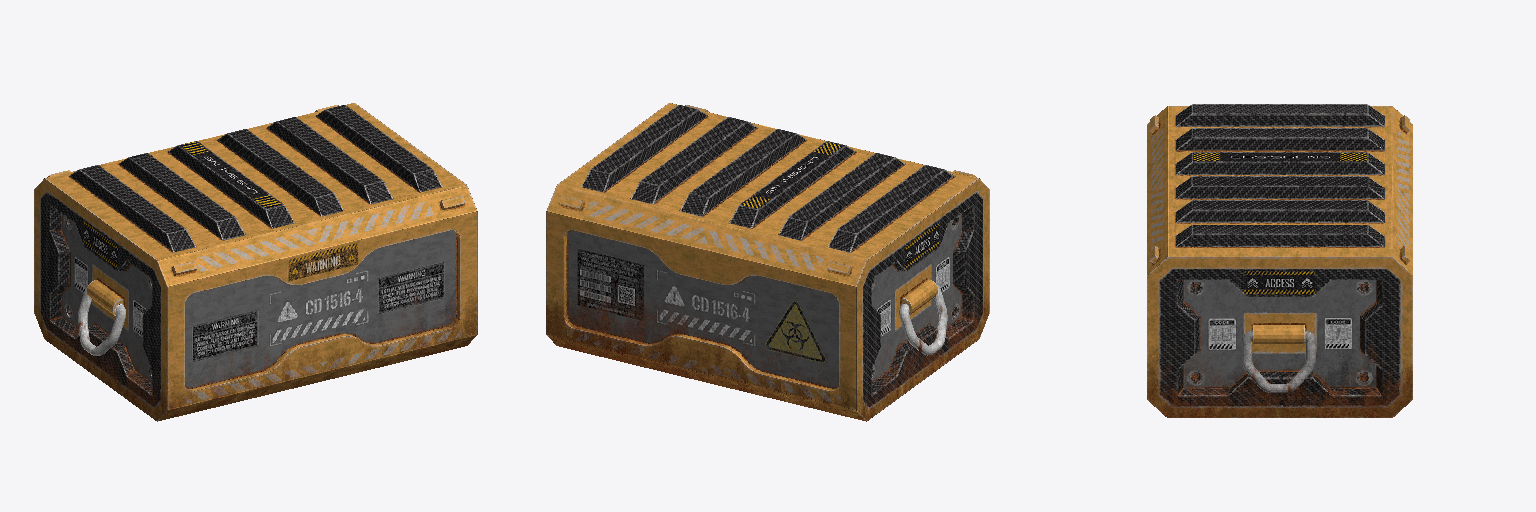
The picture shows the model from 3 angles: view 1: azimuth 30°, elevation 25°; view 2: azimuth 150°, elevation 25°; view 3: azimuth 270°, elevation 25°; orthographic projection.
Visible parts, largest first — view 1: Scifi_Crate; view 2: Scifi_Crate; view 3: Scifi_Crate.
Part boxes in pixels (x1,y1,x2,y2): Scifi_Crate: (34,103,477,421); Scifi_Crate: (546,103,989,421); Scifi_Crate: (1147,104,1412,417).
Size of the model in its own units: 354 by 173 by 241.
1 materials, 1 textured.